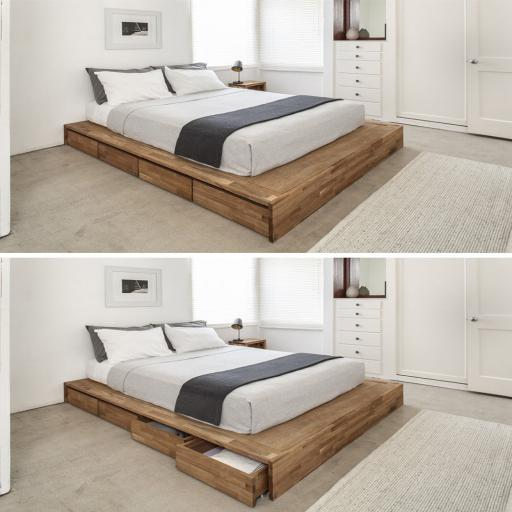bed: (64, 321, 404, 507), (64, 63, 404, 243)
